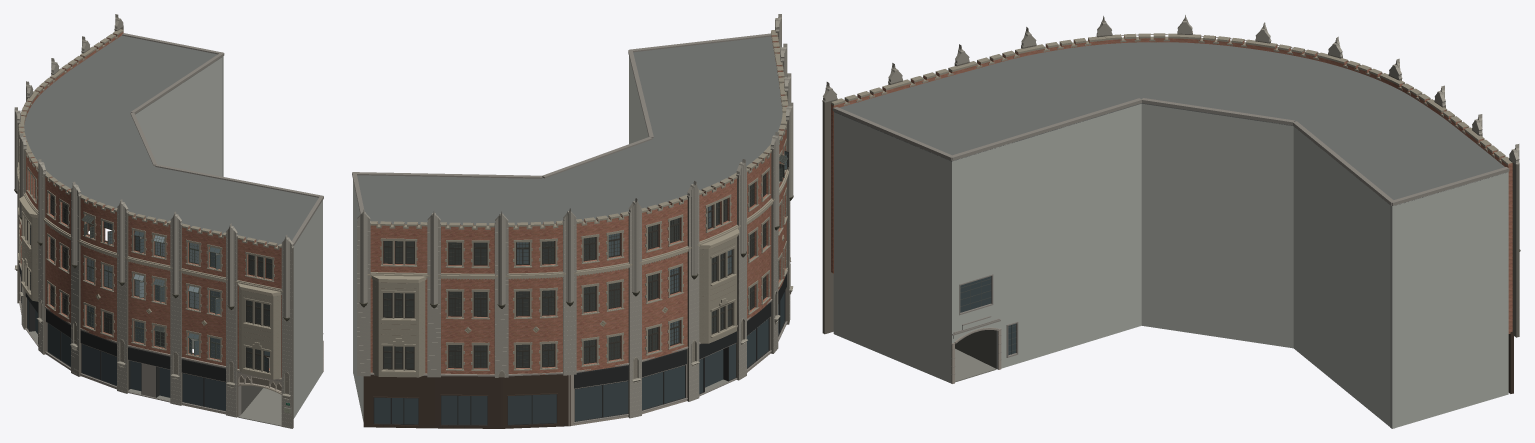
File: jingan-nanyang-continental-court-street-front-web.glb
3 renders of one model, left to right at view 1: azimuth 30°, elevation 25°; view 2: azimuth 150°, elevation 25°; view 3: azimuth 270°, elevation 25°, orthographic. The views are drawn at different scales.
Parts seen in each view (by area): view 1: 南洋大楼弧形街角、连续尖墩与陕西北路204号券门; view 2: 南洋大楼弧形街角、连续尖墩与陕西北路204号券门; view 3: 南洋大楼弧形街角、连续尖墩与陕西北路204号券门.
Boxes of the visible parts, <box> form: 南洋大楼弧形街角、连续尖墩与陕西北路204号券门: <box>14,14,323,428</box>; 南洋大楼弧形街角、连续尖墩与陕西北路204号券门: <box>352,14,793,428</box>; 南洋大楼弧形街角、连续尖墩与陕西北路204号券门: <box>822,15,1520,428</box>.
Size of the model in its own units: 26.62 by 18.41 by 46.76.
Materials: 32 (9 with a texture image).
